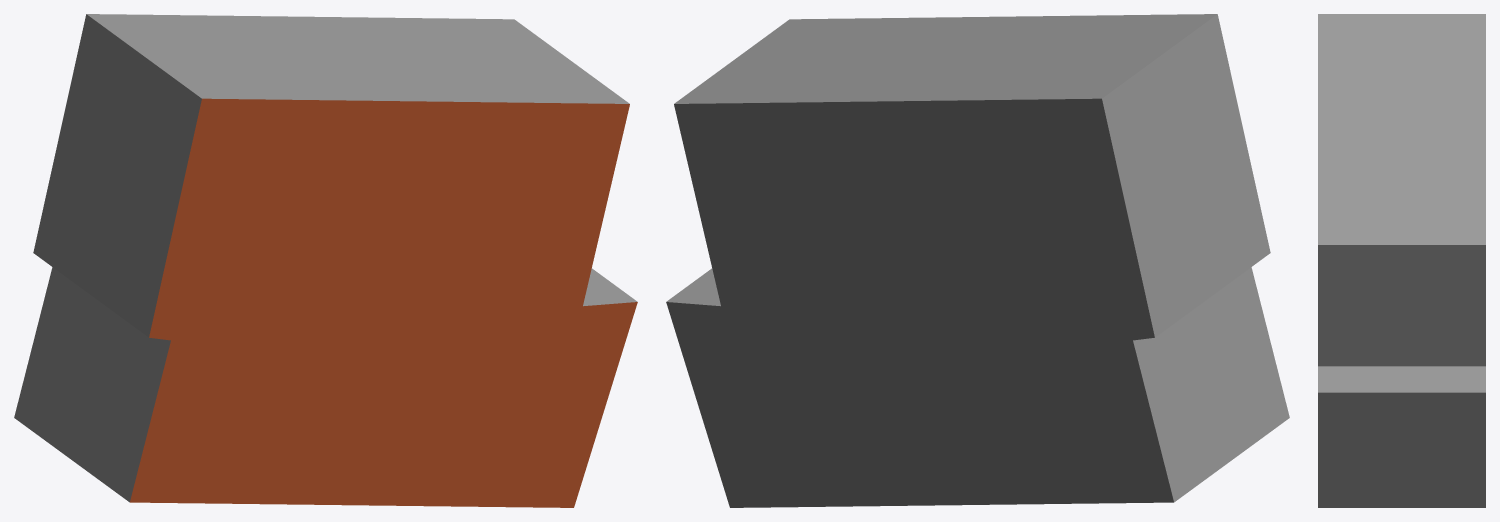
Rendered from construction_3710_assumed_A_Casa_h6m.obj.
The picture shows the model from 3 angles, left to right: view 1: azimuth 30°, elevation 25°; view 2: azimuth 150°, elevation 25°; view 3: azimuth 270°, elevation 25°; orthographic projection. The views are drawn at different scales.
Parts seen in each view (by area): view 1: construction_3710_assumed_A_Casa; view 2: construction_3710_assumed_A_Casa; view 3: construction_3710_assumed_A_Casa.
Boxes of the visible parts, box(x1,y1,x2,y2) form: construction_3710_assumed_A_Casa: box(14, 14, 637, 507); construction_3710_assumed_A_Casa: box(666, 14, 1289, 507); construction_3710_assumed_A_Casa: box(1318, 14, 1485, 507).
Bounding box in the file's own units: 15.21 × 14.3 × 6.
